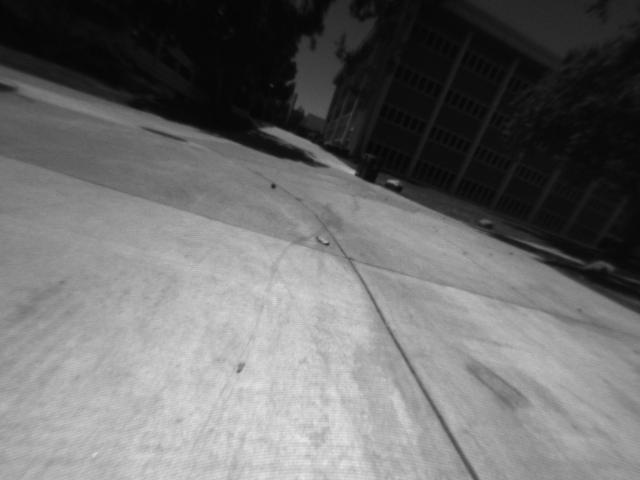dogtoy: (267, 176, 281, 193)
